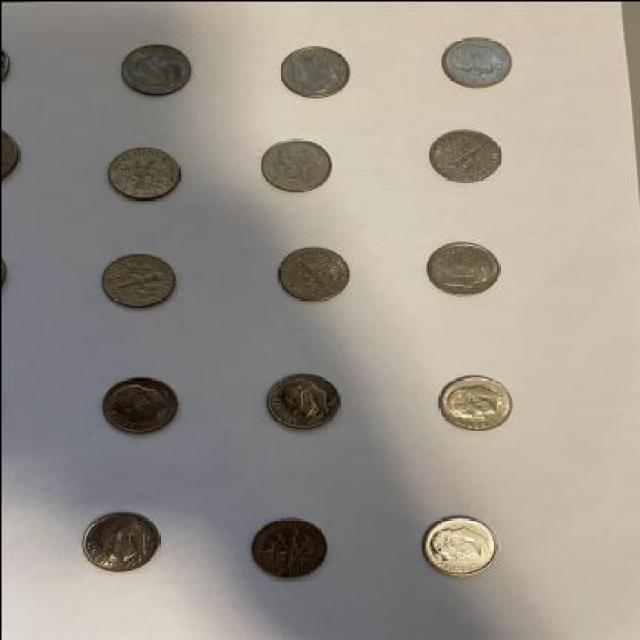Dime: (248, 515, 334, 580), (418, 512, 500, 577), (258, 371, 342, 431), (96, 250, 176, 312), (80, 509, 160, 571), (101, 374, 180, 436), (100, 144, 182, 203), (437, 370, 514, 432), (423, 238, 503, 297), (274, 244, 352, 304), (114, 40, 194, 98), (258, 138, 336, 197), (277, 42, 354, 100), (438, 30, 512, 90), (425, 130, 503, 184)
